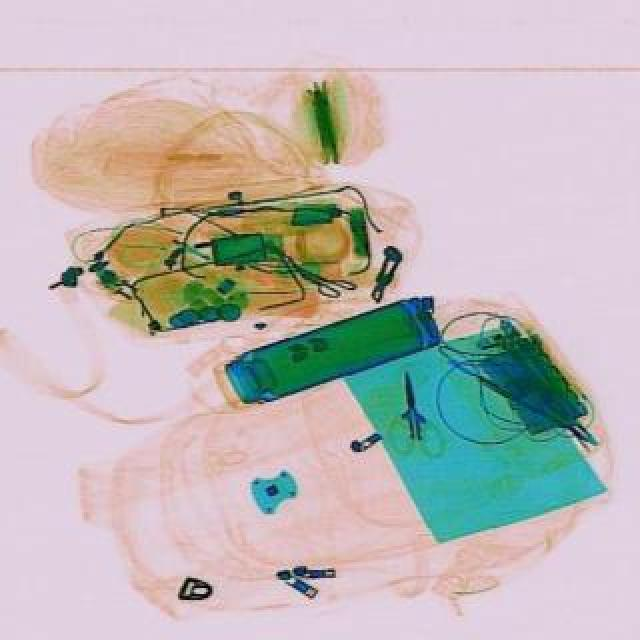knife: (392, 368, 428, 442)
